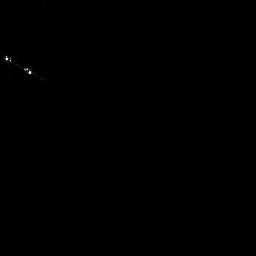ship: (2, 53, 44, 80)
